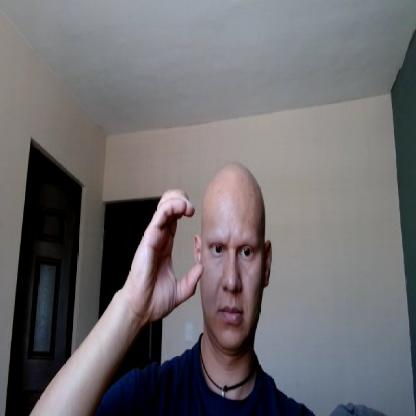C: (132, 188, 204, 321)
